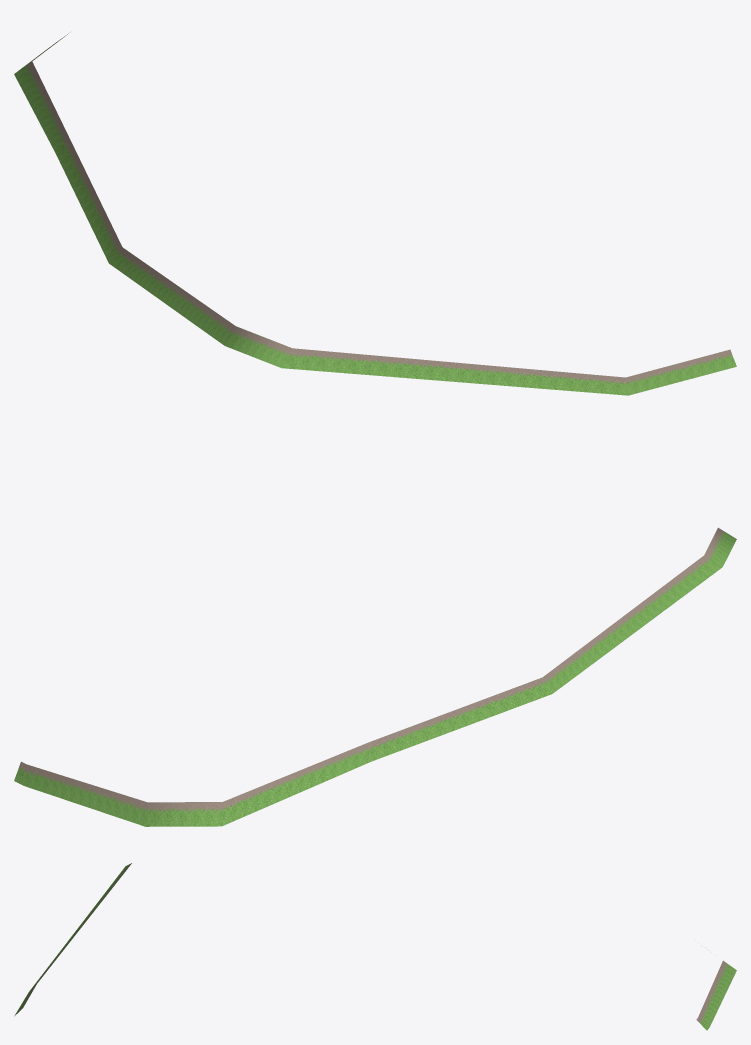
The model's file is kd_stage_1364a3_7_20_bounded.glb.
3 views of the same model, one above another, from view 1: azimuth 30°, elevation 25°; view 2: azimuth 150°, elevation 25°; view 3: azimuth 270°, elevation 25° (orthographic). The views are drawn at different scales.
Parts seen in each view (by area): view 1: kd_stage_1364a3_7_20_bounded; view 2: kd_stage_1364a3_7_20_bounded; view 3: kd_stage_1364a3_7_20_bounded.
Part boxes in pixels (x1,y1,x2,y2): kd_stage_1364a3_7_20_bounded: (14,33,736,395); kd_stage_1364a3_7_20_bounded: (14,527,736,826); kd_stage_1364a3_7_20_bounded: (14,863,736,1030).
Size of the model in its own units: 117 by 18.72 by 264.
Materials: 1 (1 with a texture image).
